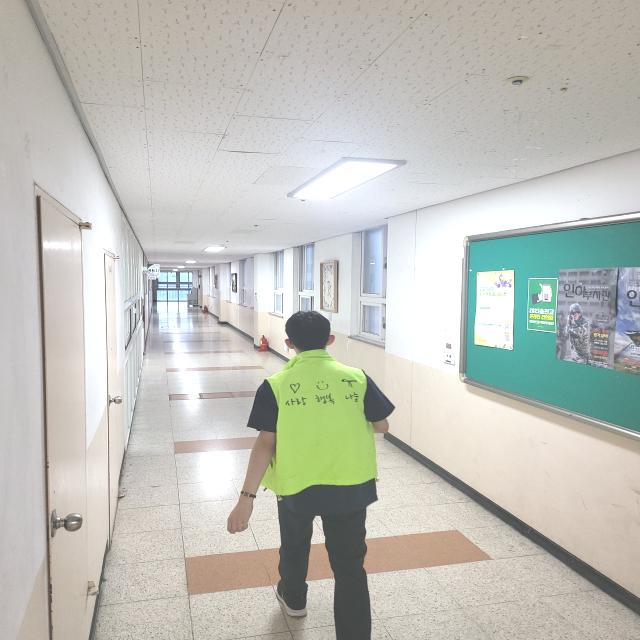weston_spy: (238, 358, 407, 510)
